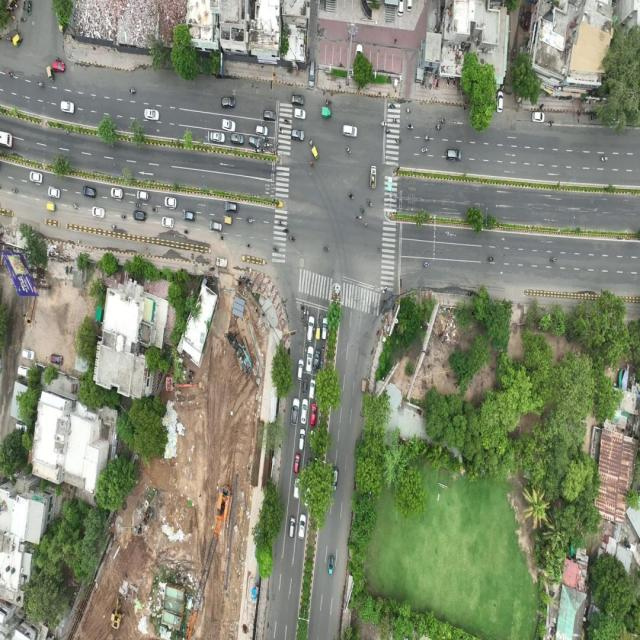3W: (44, 59, 56, 90), (9, 29, 25, 50), (310, 143, 323, 168), (21, 0, 36, 17), (358, 375, 369, 397), (44, 201, 60, 215), (300, 373, 309, 396), (314, 318, 322, 343), (223, 212, 234, 228)
Cars: (220, 114, 240, 137), (58, 96, 78, 117), (289, 393, 301, 427), (26, 167, 46, 187), (443, 146, 465, 164), (14, 362, 36, 380), (341, 121, 359, 143), (306, 313, 318, 345), (290, 124, 306, 147), (306, 59, 317, 92), (130, 207, 149, 226), (252, 121, 271, 140), (298, 397, 310, 427), (308, 399, 320, 429), (90, 202, 108, 222), (261, 106, 279, 126), (49, 348, 65, 370), (50, 56, 66, 78), (352, 42, 366, 67), (329, 465, 341, 494), (207, 218, 226, 236), (46, 182, 64, 201), (142, 106, 160, 125), (209, 128, 228, 146), (20, 345, 39, 363), (81, 181, 98, 201), (220, 92, 237, 112), (305, 343, 315, 376), (296, 426, 308, 453), (222, 198, 240, 216), (181, 207, 198, 226), (289, 91, 308, 108), (14, 419, 30, 439), (495, 87, 506, 116), (307, 373, 318, 402), (530, 108, 546, 127), (291, 108, 310, 124), (246, 132, 262, 151), (292, 474, 302, 503), (110, 184, 126, 202), (230, 130, 246, 148), (287, 514, 298, 540), (312, 345, 322, 373), (163, 195, 179, 212), (135, 186, 151, 203), (320, 314, 329, 344), (292, 450, 302, 476), (309, 426, 319, 452), (160, 215, 175, 232), (523, 6, 532, 34), (298, 511, 306, 542), (303, 484, 312, 510), (296, 353, 304, 382), (306, 455, 314, 484), (396, 0, 406, 19), (404, 0, 413, 14), (252, 144, 261, 156)
LCV: (367, 162, 381, 194), (326, 550, 335, 577), (320, 104, 334, 121), (588, 107, 600, 125)
M2W: (433, 74, 444, 94), (7, 65, 17, 83), (543, 116, 556, 129), (321, 242, 333, 256), (420, 258, 432, 272), (364, 196, 376, 210), (547, 253, 559, 267), (279, 224, 293, 236), (387, 99, 398, 114), (358, 201, 368, 217), (244, 212, 254, 228), (308, 155, 316, 175), (306, 135, 316, 151), (382, 125, 394, 138), (402, 104, 414, 117), (346, 188, 357, 202), (599, 152, 610, 166), (35, 76, 46, 90), (287, 232, 297, 247), (16, 14, 28, 26), (270, 242, 281, 255), (150, 204, 161, 217), (380, 282, 390, 296), (10, 183, 20, 197), (324, 94, 334, 108), (276, 122, 286, 136), (4, 32, 14, 46), (218, 230, 227, 245), (450, 75, 457, 94), (422, 132, 433, 144), (433, 122, 444, 134), (485, 254, 497, 265), (133, 198, 144, 210), (435, 116, 448, 126), (128, 84, 138, 97), (419, 142, 428, 156), (344, 142, 353, 156), (206, 263, 217, 274), (186, 377, 196, 389), (272, 136, 282, 148), (258, 133, 270, 143), (303, 338, 310, 355), (377, 297, 386, 310), (182, 226, 191, 239), (189, 364, 197, 378), (378, 118, 388, 129), (284, 115, 294, 126), (244, 239, 253, 251), (393, 135, 402, 147), (391, 116, 400, 128), (276, 218, 285, 230), (319, 352, 325, 369), (405, 122, 415, 132), (302, 303, 308, 319), (305, 304, 311, 320), (299, 311, 305, 327), (375, 324, 381, 340), (258, 144, 266, 156), (301, 321, 308, 334), (299, 299, 305, 314), (120, 212, 129, 222), (262, 140, 271, 150), (445, 76, 451, 91), (269, 144, 276, 156), (187, 371, 196, 380), (71, 201, 80, 210), (110, 221, 118, 231), (321, 342, 326, 354)
Truck: (213, 252, 230, 272)
